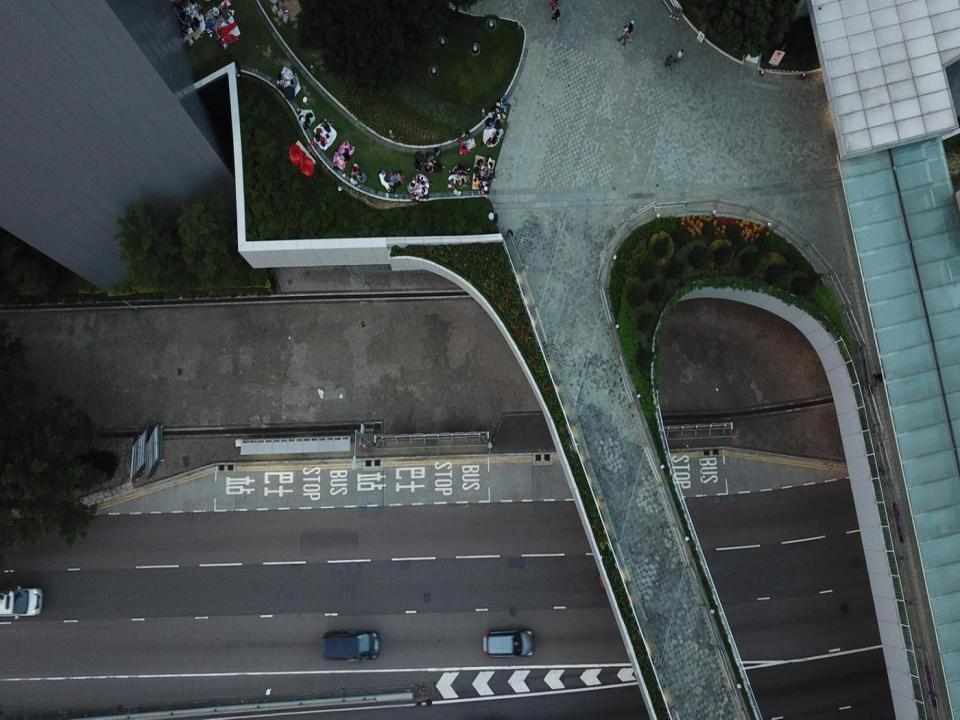car: (323, 628, 379, 662), (598, 561, 648, 589), (482, 630, 533, 656), (1, 585, 42, 617)
